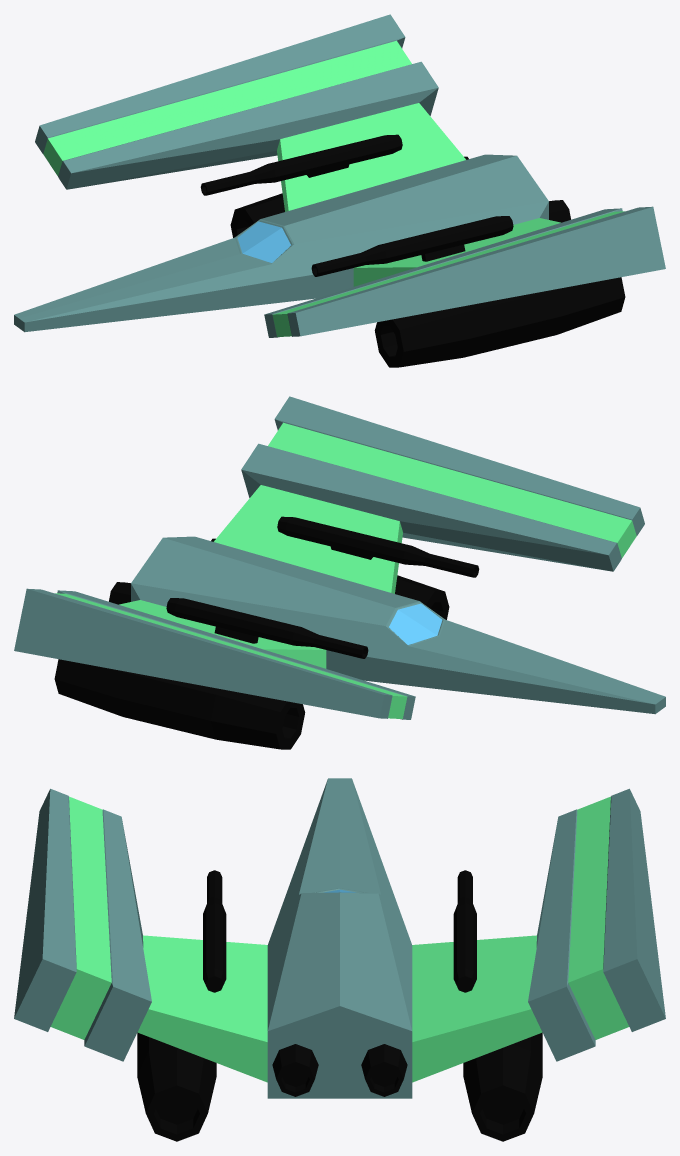
File: fighter4.fbx
3 views of the same model, one above another, from view 1: azimuth 30°, elevation 25°; view 2: azimuth 150°, elevation 25°; view 3: azimuth 270°, elevation 25° (orthographic). The views are drawn at different scales.
Parts seen in each view (by area): view 1: Fighter4; view 2: Fighter4; view 3: Fighter4.
Boxes of the visible parts, bbox=[...] form: Fighter4: bbox=[14, 14, 665, 367]; Fighter4: bbox=[14, 396, 665, 749]; Fighter4: bbox=[14, 778, 665, 1141].
Bounding box in the file's own units: 552 × 161 × 526.
